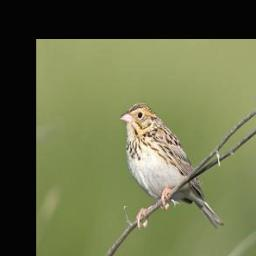Sparrow: (121, 101, 225, 228)
